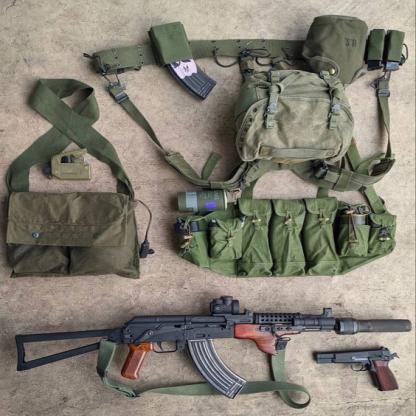Grenade: (175, 185, 241, 214)
Gun: (11, 295, 413, 400)
Pistol: (312, 346, 400, 392)
